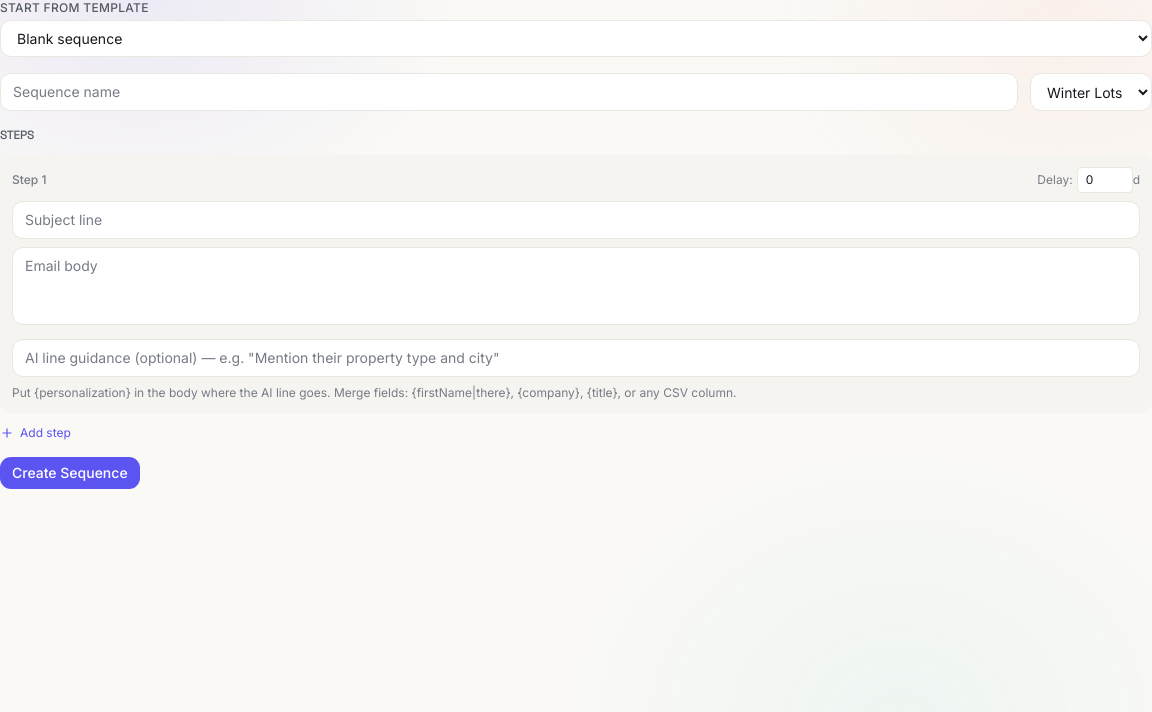
Test: CreateSequenceForm — starter templates › fills the name and steps when a template is chosen
Select "Snow — property managers & HOAs" in the dropdown labelled "Start from template". click: point(576, 38)
box: [0, 20, 1151, 57]
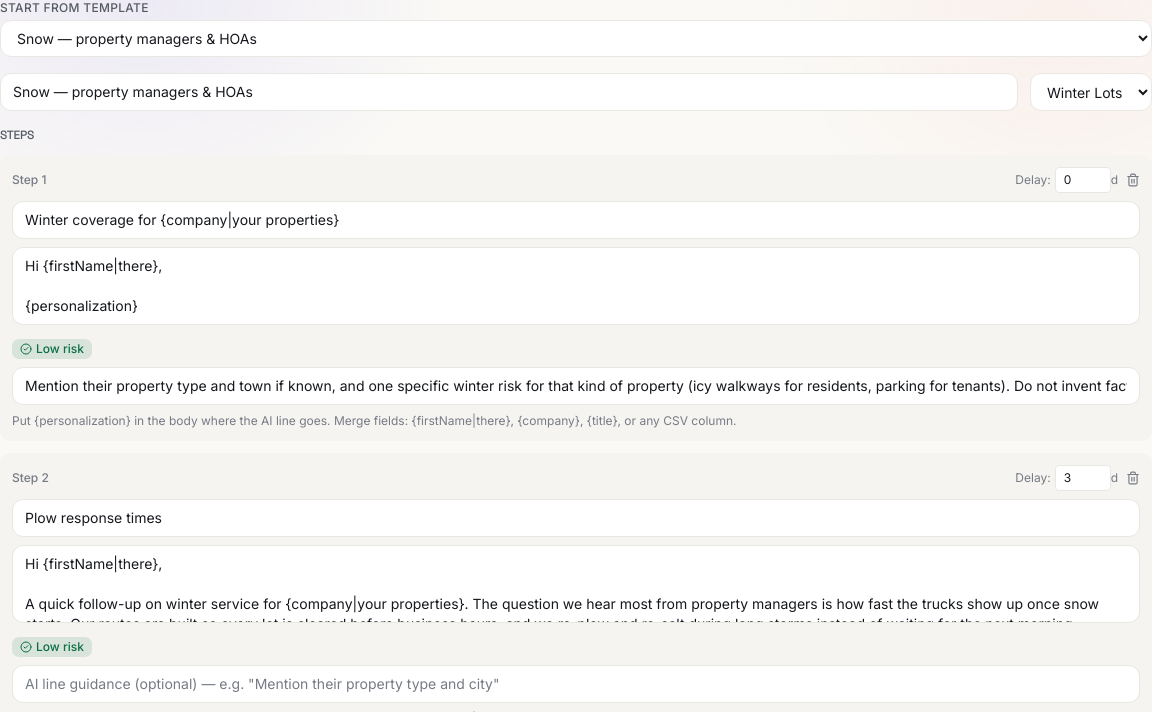
expect the 1st field with placeholder "Sequence name" holds "Snow — property managers & HOAs": met, box [0, 73, 1018, 111]
expect the number of text boxes with placeholder "Email body" is 4: met
